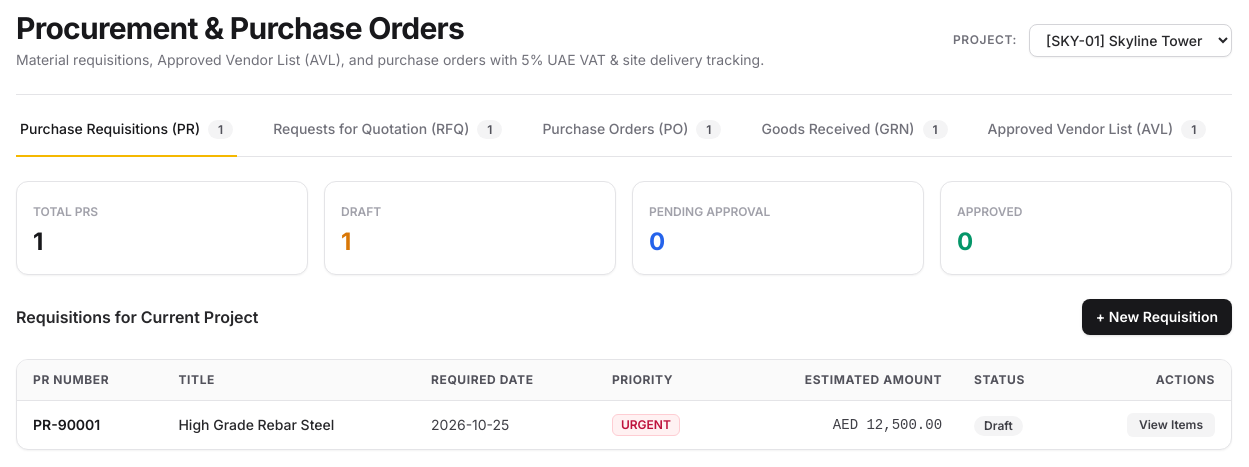
Test: ProcurementPage › switches to PO tab and displays purchase orders with VAT breakdown
Click the button "Purchase Orders (PO)1": {"x": 632, "y": 138} [538,119,726,157]
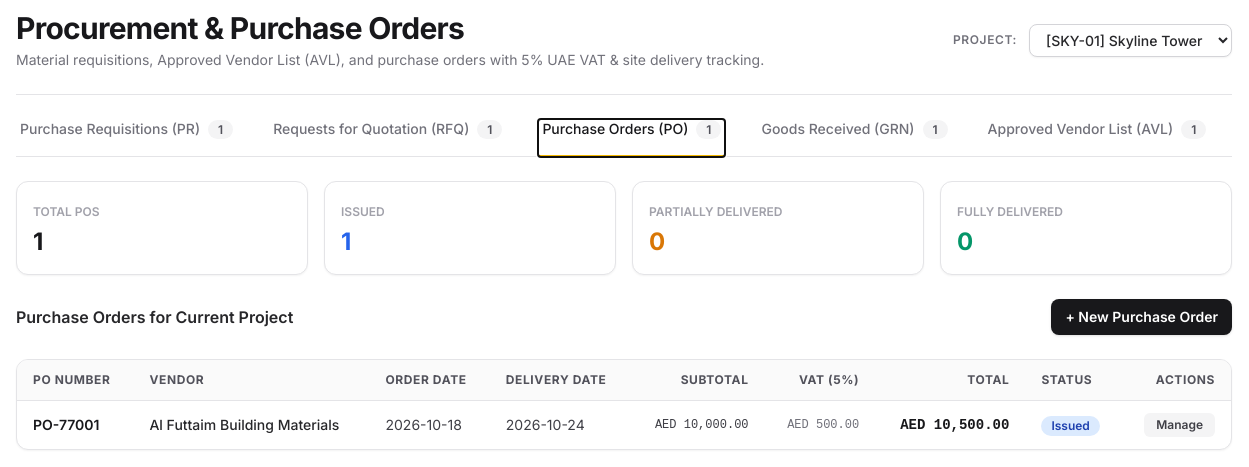
Result: the text "PO-77001" is shown at [17,400,133,449]
Result: the text "AED 10,000.00" is shown at [631,400,764,449]
Result: the text "AED 500.00" is shown at [764,400,875,449]
